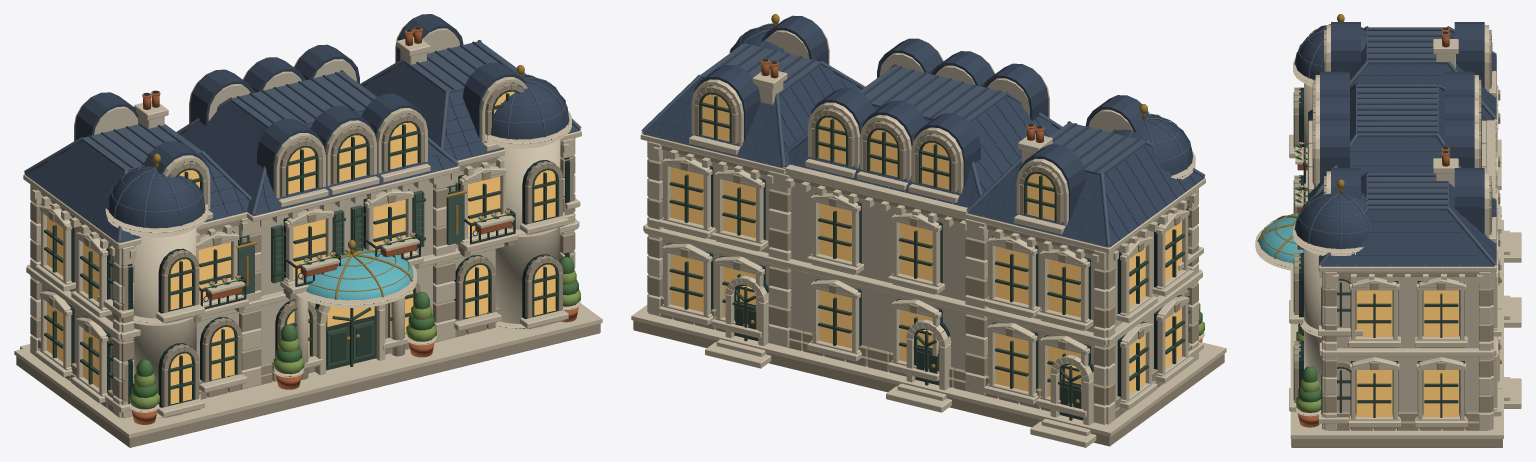
3 renders of one model, left to right at view 1: azimuth 30°, elevation 25°; view 2: azimuth 150°, elevation 25°; view 3: azimuth 270°, elevation 25°, orthographic. The views are drawn at different scales.
Visible parts, largest first — view 1: classic_skyscraper_2_geometry; view 2: classic_skyscraper_2_geometry; view 3: classic_skyscraper_2_geometry.
Part boxes in pixels (bbox=[...]): classic_skyscraper_2_geometry: bbox=[14, 14, 602, 447]; classic_skyscraper_2_geometry: bbox=[631, 14, 1226, 447]; classic_skyscraper_2_geometry: bbox=[1255, 14, 1521, 447].
Bounding box in the file's own units: 1.95 × 1.06 × 1.02.
